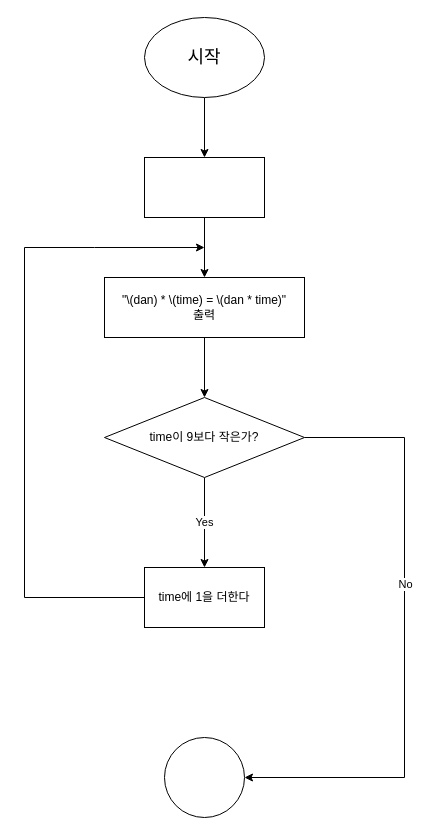
Some shapes in this 430 by 835 pixel diagram are drawn without their labels. The centre of each missing label's shape, as x and y in pixels:
"dan: 2 time: 1" goes at point 204,187.
"종료" goes at point 204,777.
